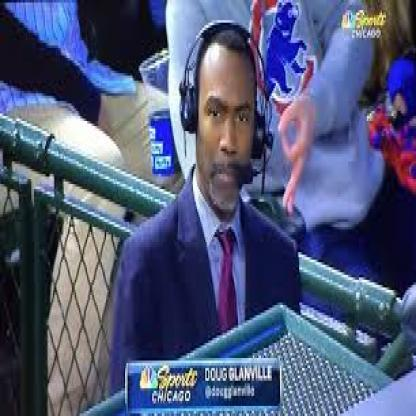ok: (274, 91, 312, 216)
